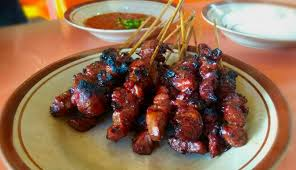sate: (46, 32, 268, 161)
